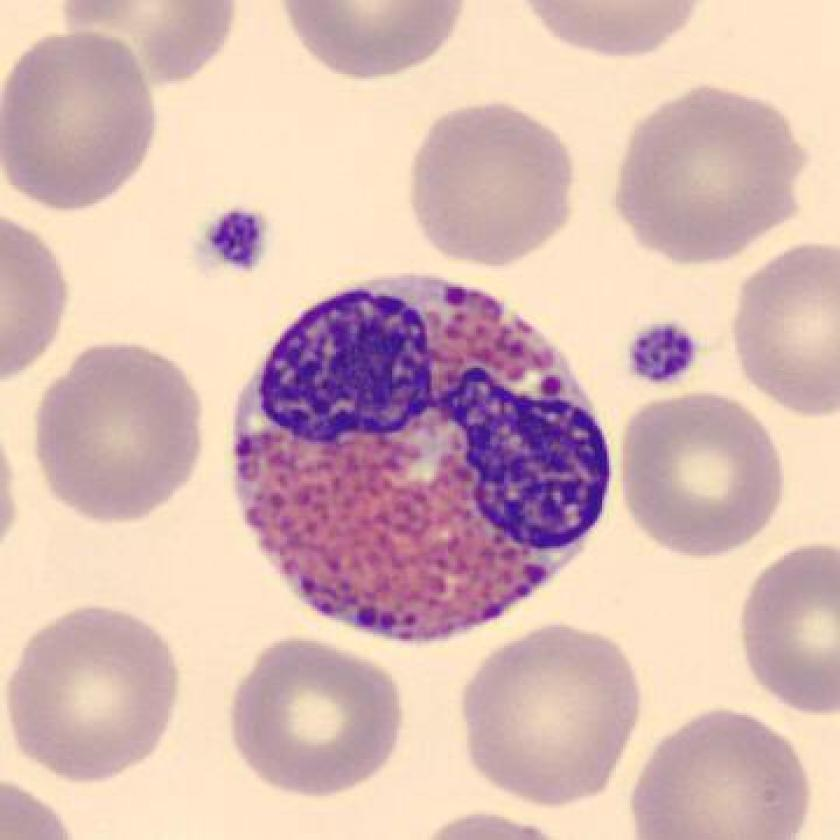eosinophil: (216, 256, 624, 651)
